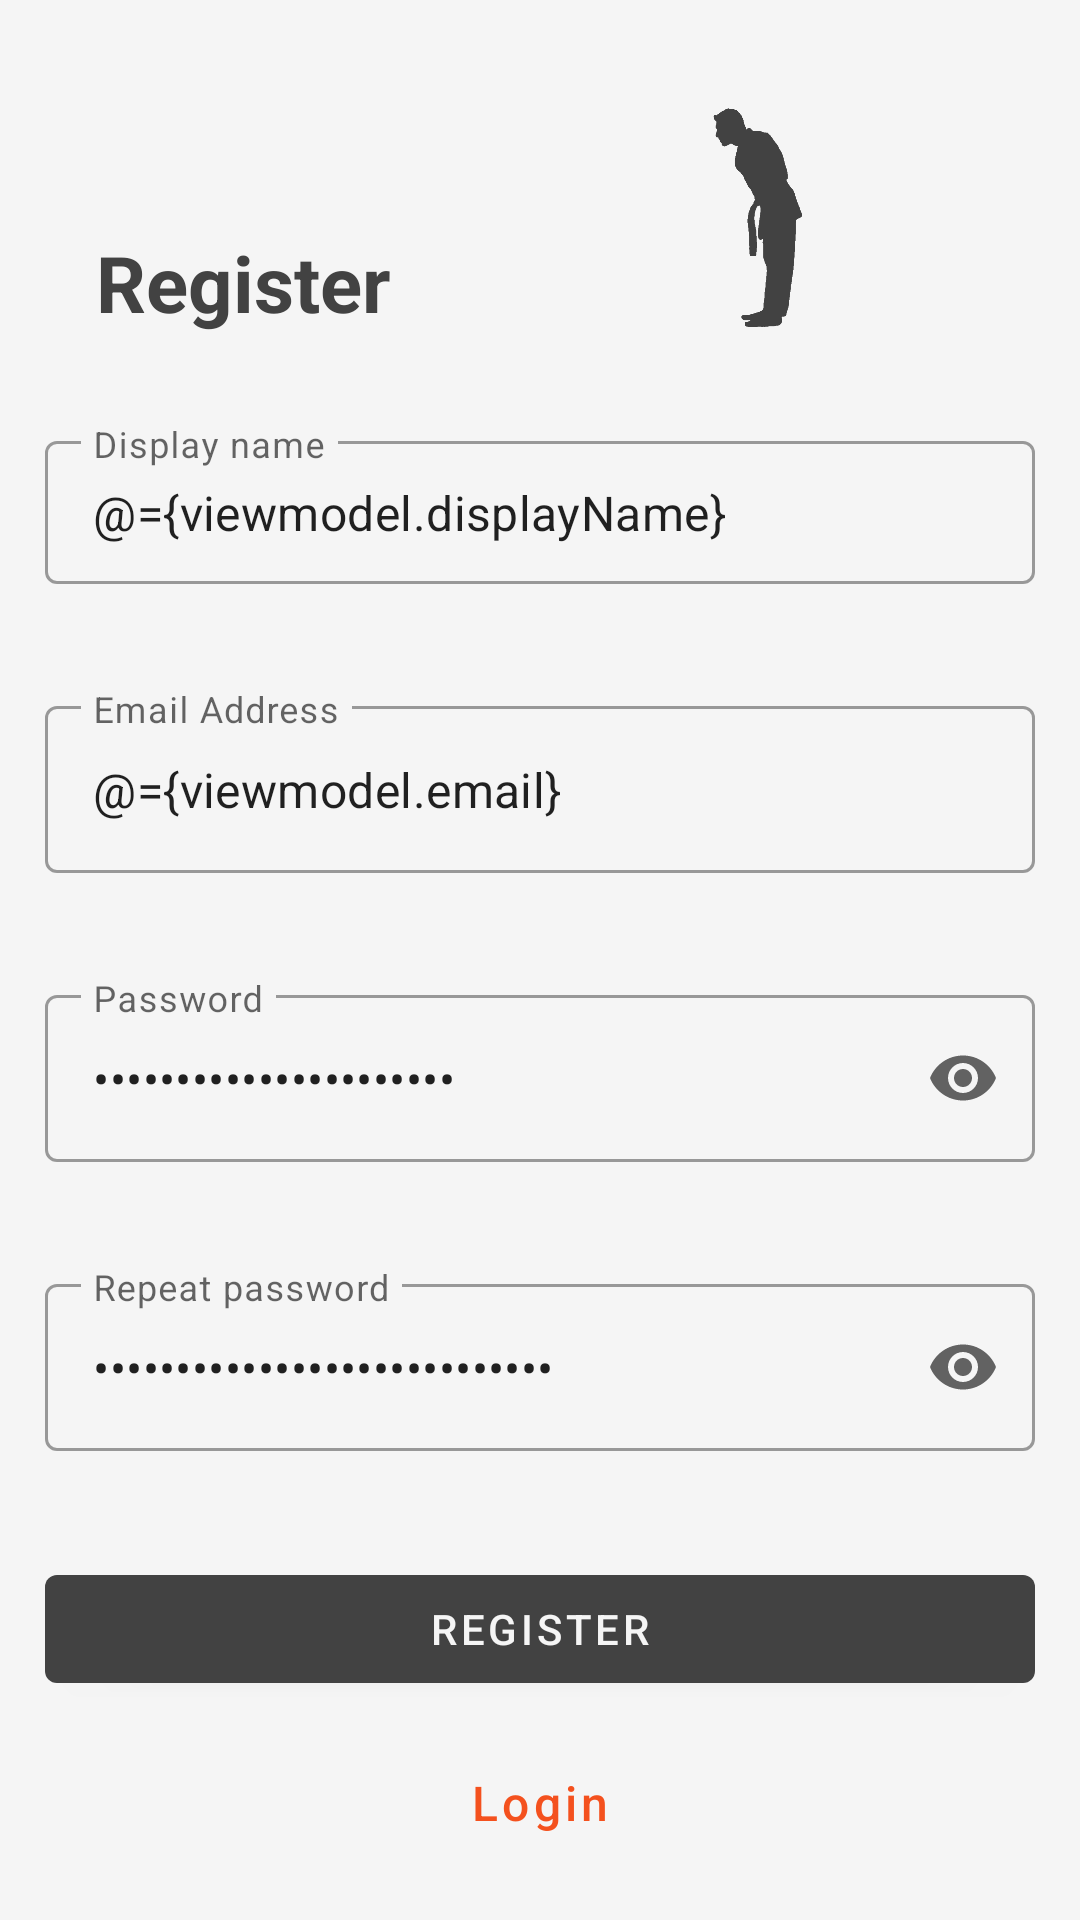

Where icons sit on this 1080*1920 app screen, as (x1, y1, x2, y2):
Image karate bow: (713, 108, 802, 327)
